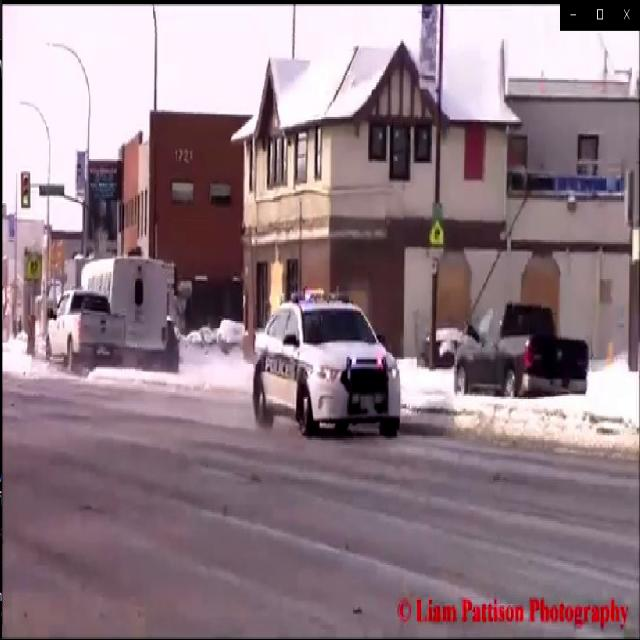emergency: (246, 278, 406, 448)
